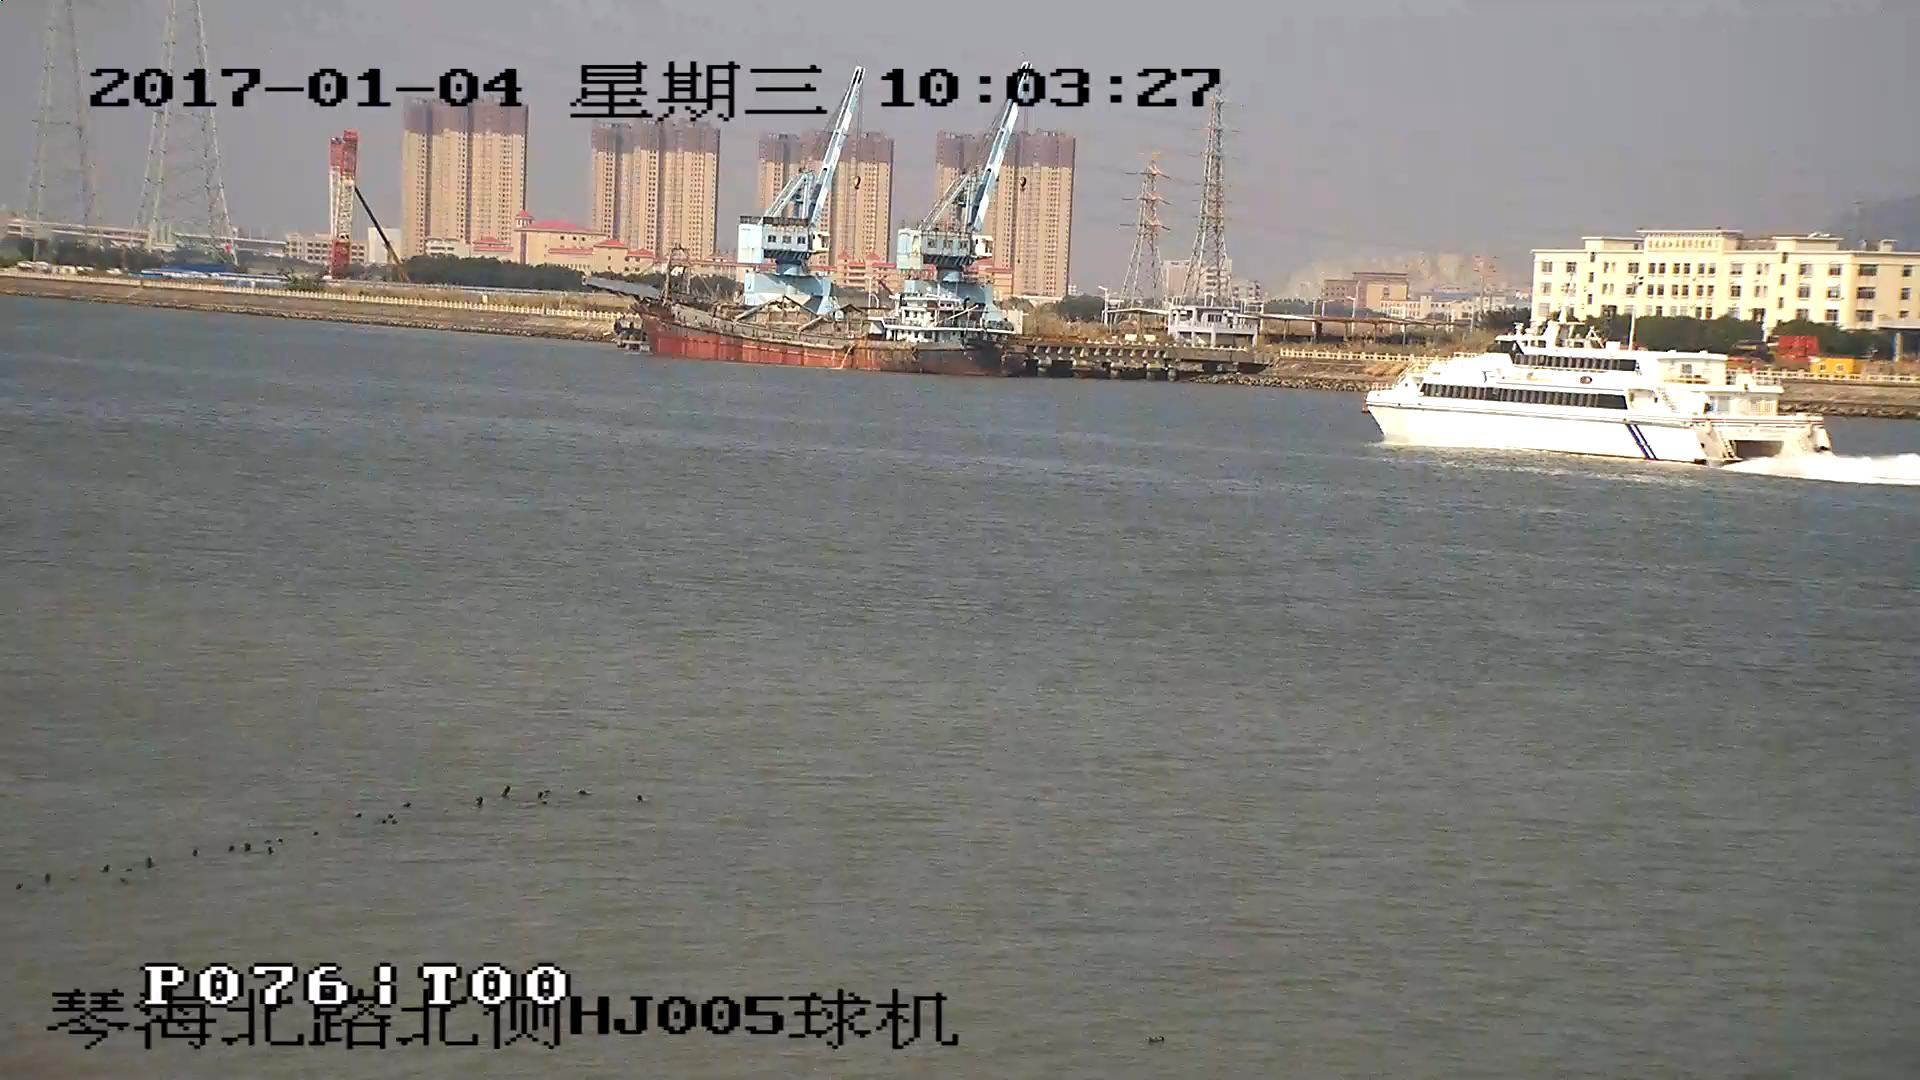passenger ship: (1364, 264, 1824, 472)
